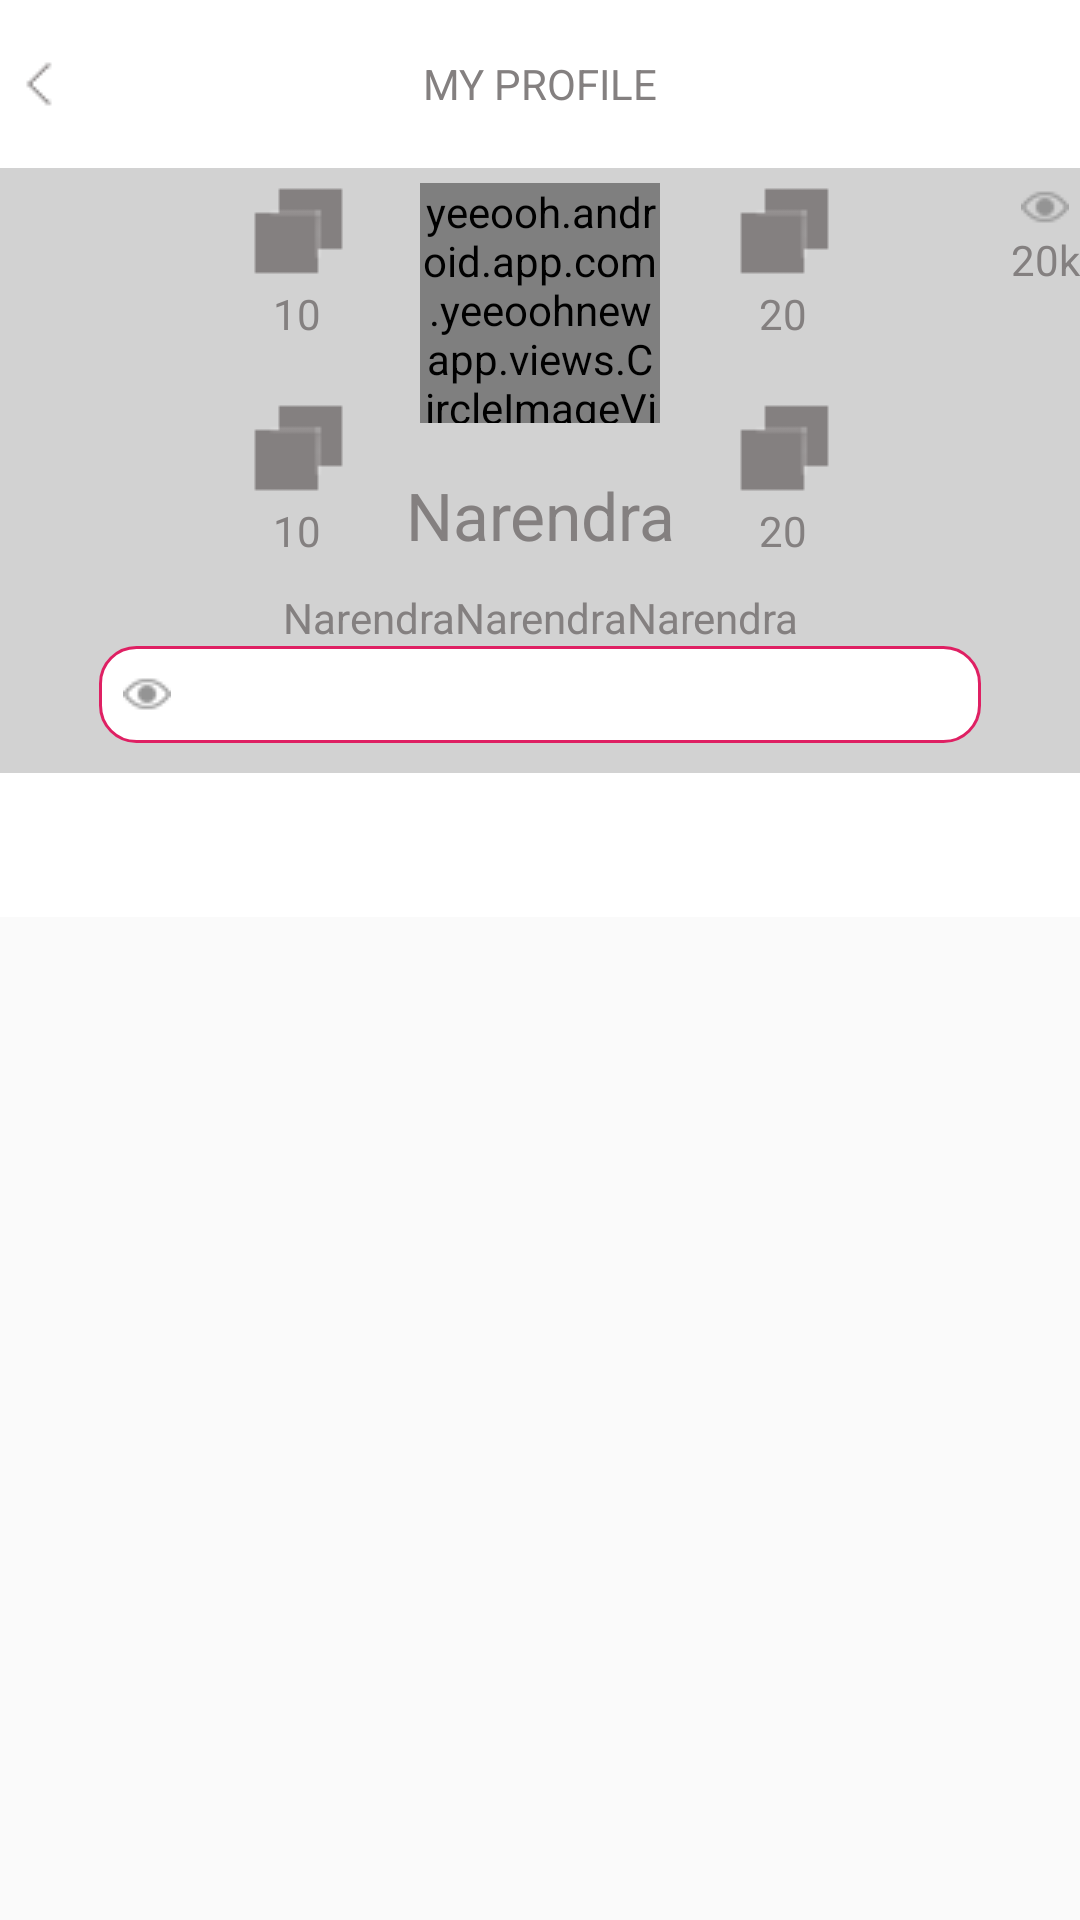

Point at icon controls on the screen. Image size 1080w x 1920h, points as (x=x, y=y).
back: (x=39, y=84)
